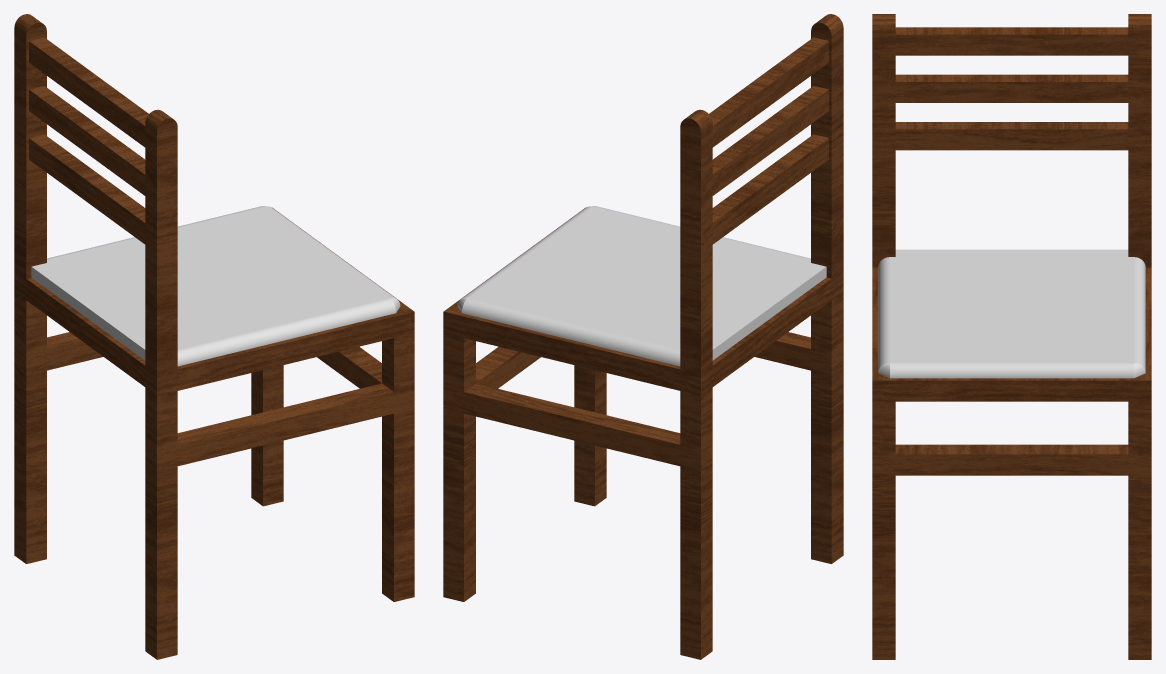
The model's file is silla.fbx.
3 renders of one model, left to right at view 1: azimuth 30°, elevation 25°; view 2: azimuth 150°, elevation 25°; view 3: azimuth 270°, elevation 25°, orthographic. The views are drawn at different scales.
Visible parts, largest first — view 1: Group1, Group2; view 2: Group1, Group2; view 3: Group1, Group2.
Part boxes in pixels (bbox=[...]): Group1: bbox=[14, 14, 414, 659]; Group2: bbox=[31, 206, 400, 366]; Group1: bbox=[443, 14, 843, 659]; Group2: bbox=[457, 206, 826, 366]; Group1: bbox=[872, 14, 1151, 659]; Group2: bbox=[878, 249, 1145, 378].
Size of the model in its own units: 0.5 by 1 by 0.48.
